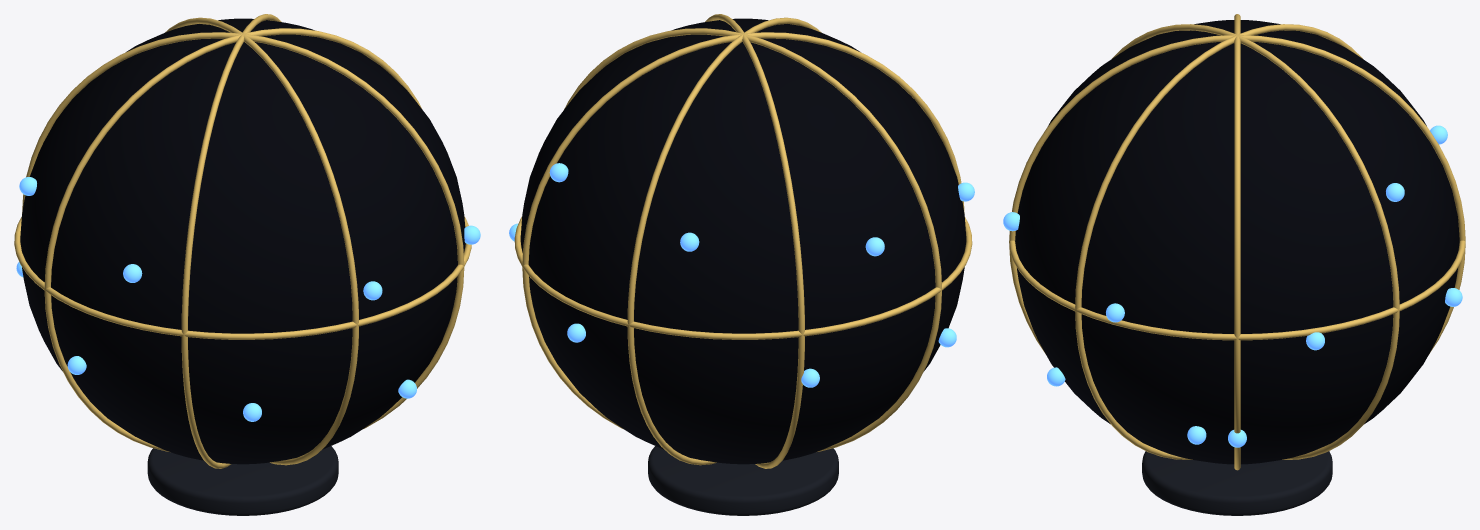
Rendered from globe.glb.
3 views of the same model, side by side, from view 1: azimuth 30°, elevation 25°; view 2: azimuth 150°, elevation 25°; view 3: azimuth 270°, elevation 25° (orthographic).
Parts seen in each view (by area): view 1: globe, stand, lines.003, lines, lines.002, lines.004, lines.001; view 2: globe, stand, lines.001, lines, lines.002, lines.004, lines.003; view 3: globe, stand, lines.002, lines.003, lines.001, lines.004, lines.
Part boxes in pixels (bbox=[...]): globe: bbox=[20, 18, 465, 464]; stand: bbox=[147, 446, 338, 515]; lines.003: bbox=[22, 32, 464, 428]; lines: bbox=[44, 28, 421, 451]; lines.002: bbox=[165, 17, 358, 465]; lines.004: bbox=[14, 216, 471, 339]; lines.001: bbox=[181, 14, 281, 468]; globe: bbox=[520, 18, 966, 464]; stand: bbox=[648, 446, 838, 515]; lines.001: bbox=[522, 32, 964, 428]; lines: bbox=[564, 28, 941, 451]; lines.002: bbox=[627, 17, 821, 465]; lines.004: bbox=[514, 216, 972, 339]; lines.003: bbox=[705, 14, 804, 468]; globe: bbox=[1015, 20, 1459, 464]; stand: bbox=[1142, 451, 1332, 515]; lines.002: bbox=[1009, 35, 1465, 354]; lines.003: bbox=[1075, 24, 1362, 459]; lines.001: bbox=[1112, 24, 1399, 459]; lines.004: bbox=[1009, 240, 1465, 340]; lines: bbox=[1234, 14, 1240, 470].
Size of the model in its own units: 0.862 by 0.921 by 0.8732.
